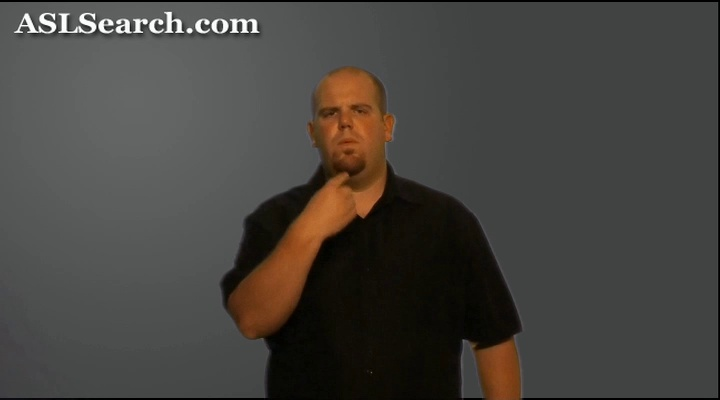who: (290, 127, 406, 234)
